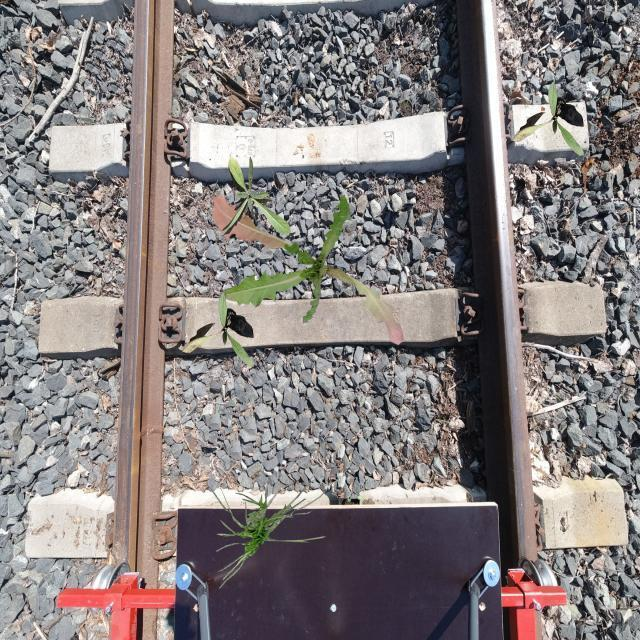Plant: (211, 194, 404, 346), (209, 466, 328, 588), (219, 156, 290, 237), (512, 81, 584, 156), (182, 293, 253, 368)
